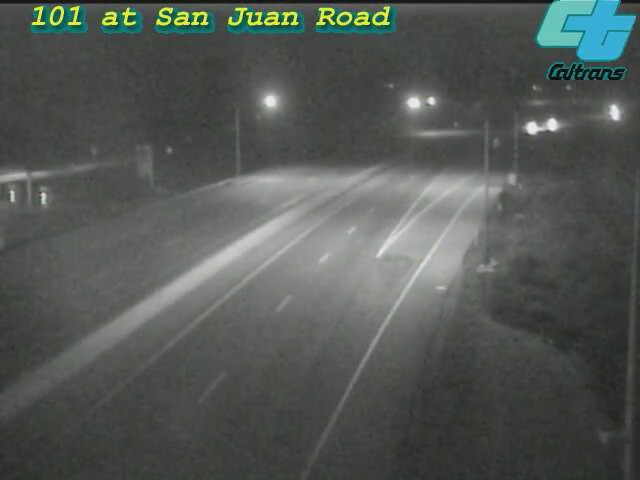vehicle: (523, 101, 573, 151), (504, 104, 554, 154), (588, 87, 638, 137)
